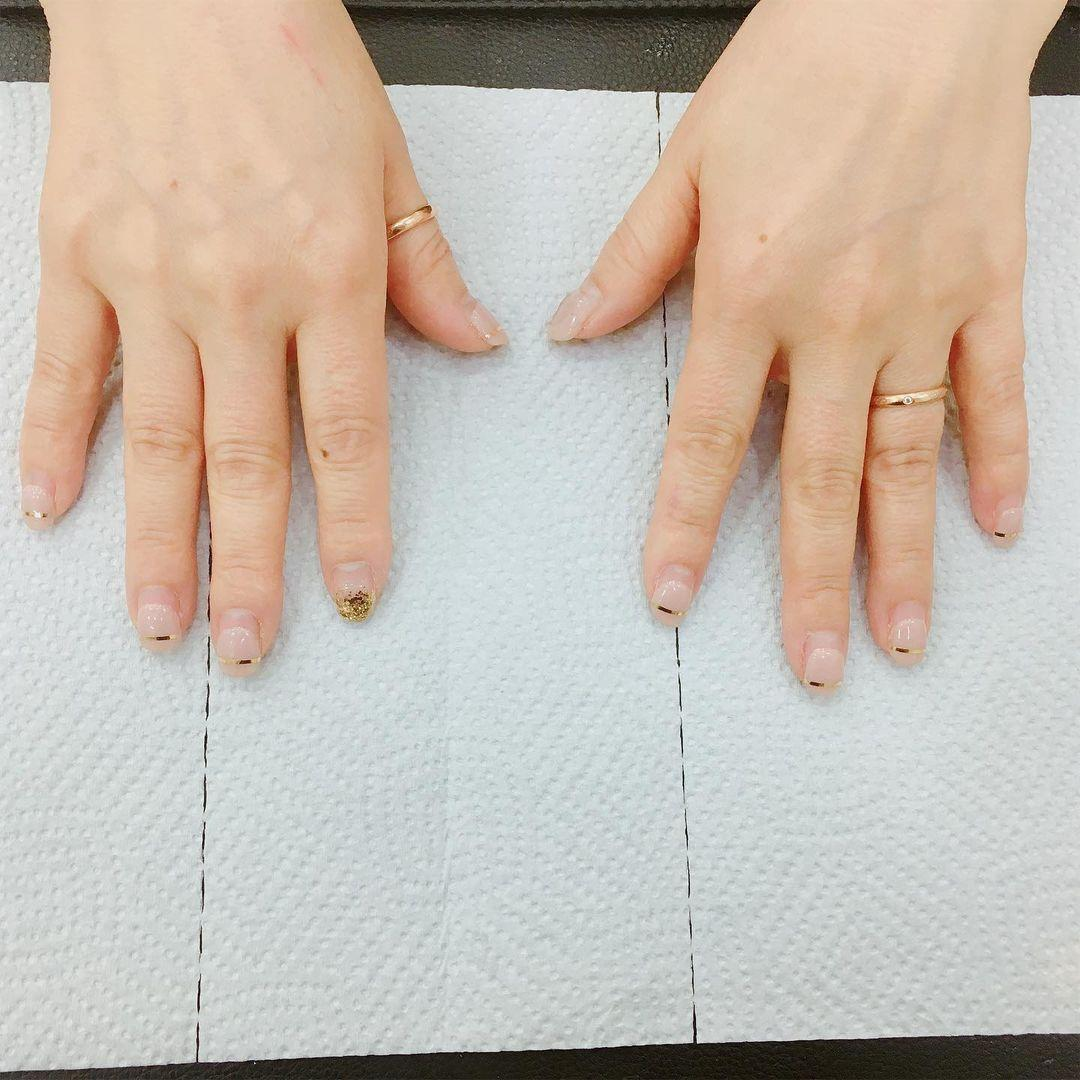nail: (213, 607, 261, 668), (134, 583, 181, 643), (330, 559, 375, 621), (801, 629, 845, 688), (886, 600, 928, 660), (650, 562, 695, 617), (870, 382, 950, 407), (386, 203, 434, 240), (19, 479, 54, 521)
